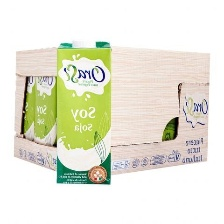carton: (48, 31, 116, 194)
